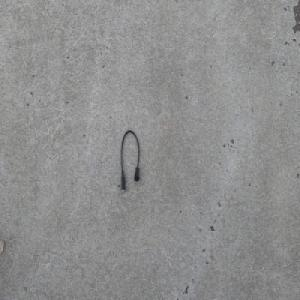Wire: (120, 129, 139, 192)
